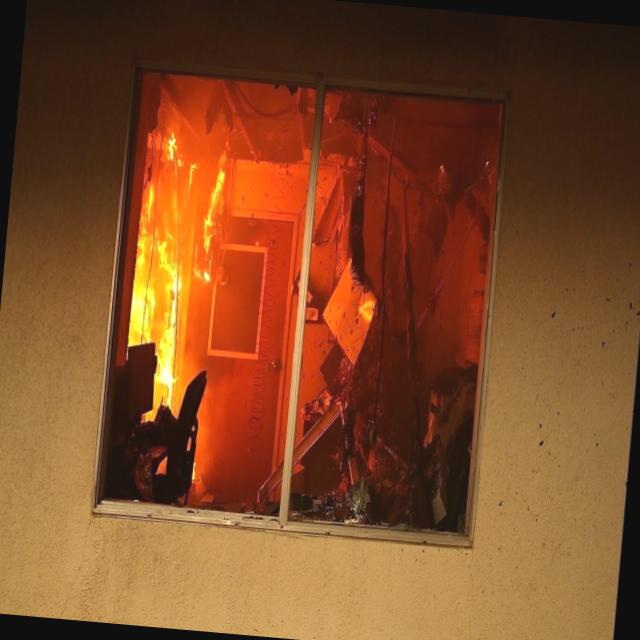fire: (111, 90, 240, 428)
